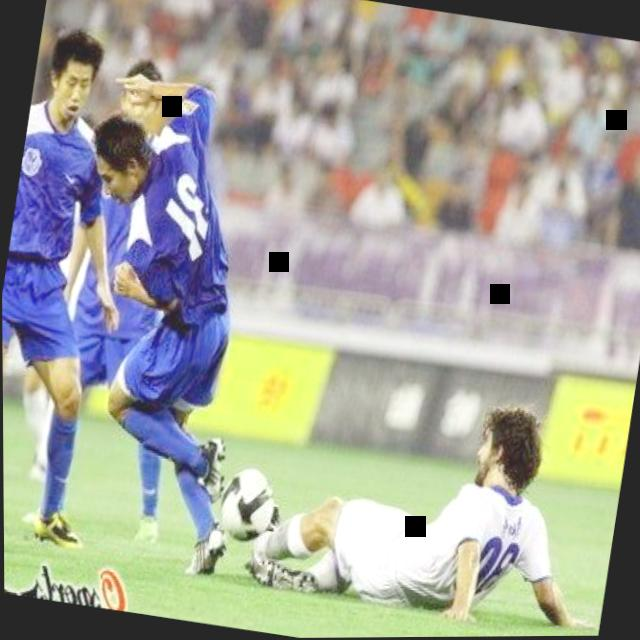Fall-Detected: (232, 345, 621, 639)
